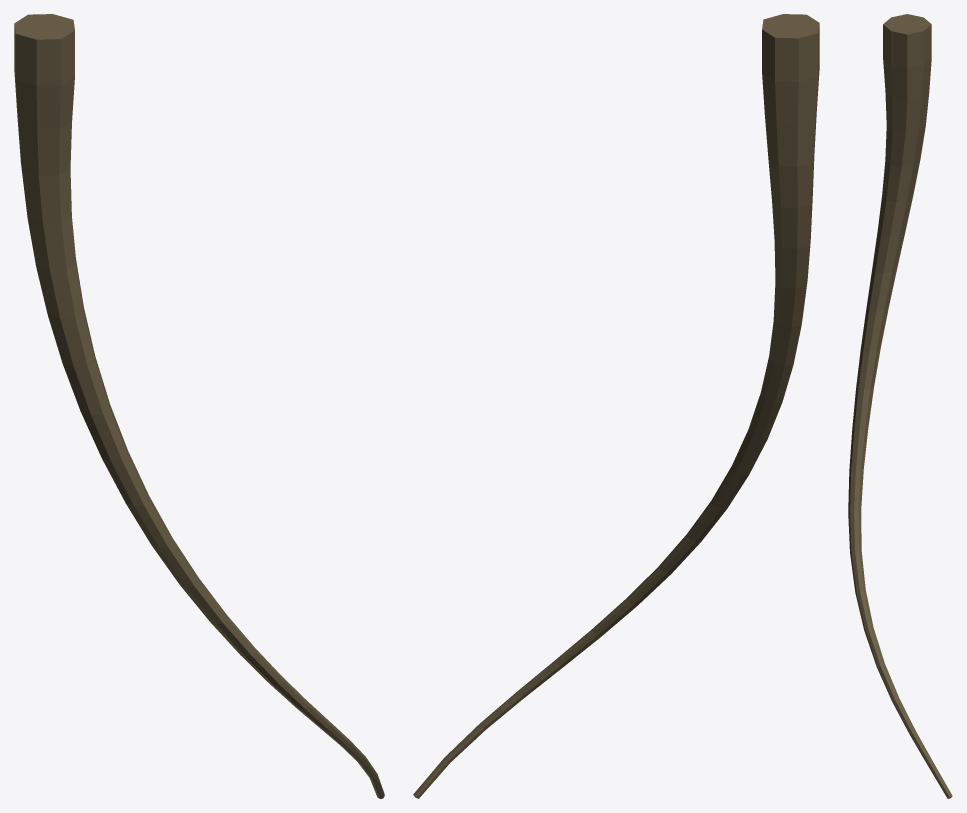
3 views of the same model, side by side, from view 1: azimuth 30°, elevation 25°; view 2: azimuth 150°, elevation 25°; view 3: azimuth 270°, elevation 25° (orthographic). The views are drawn at different scales.
Parts seen in each view (by area): view 1: Root.2.5; view 2: Root.2.5; view 3: Root.2.5.
Part boxes in pixels (box(x1,y1,x2,y2)): Root.2.5: box(14, 14, 384, 798); Root.2.5: box(413, 14, 819, 798); Root.2.5: box(848, 14, 952, 798).
Size of the model in its own units: 181 by 383 by 56.26.
